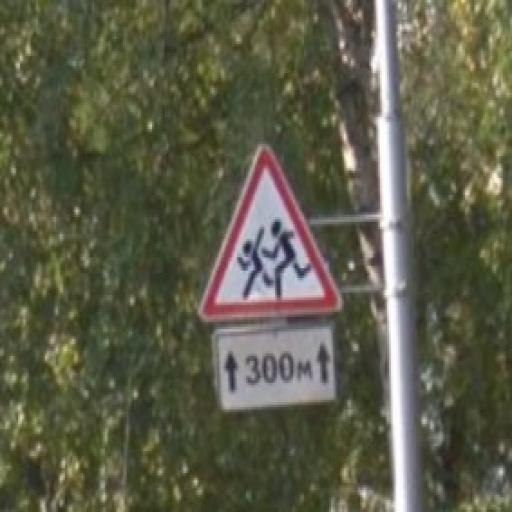traffic_sign: (198, 142, 343, 323)
